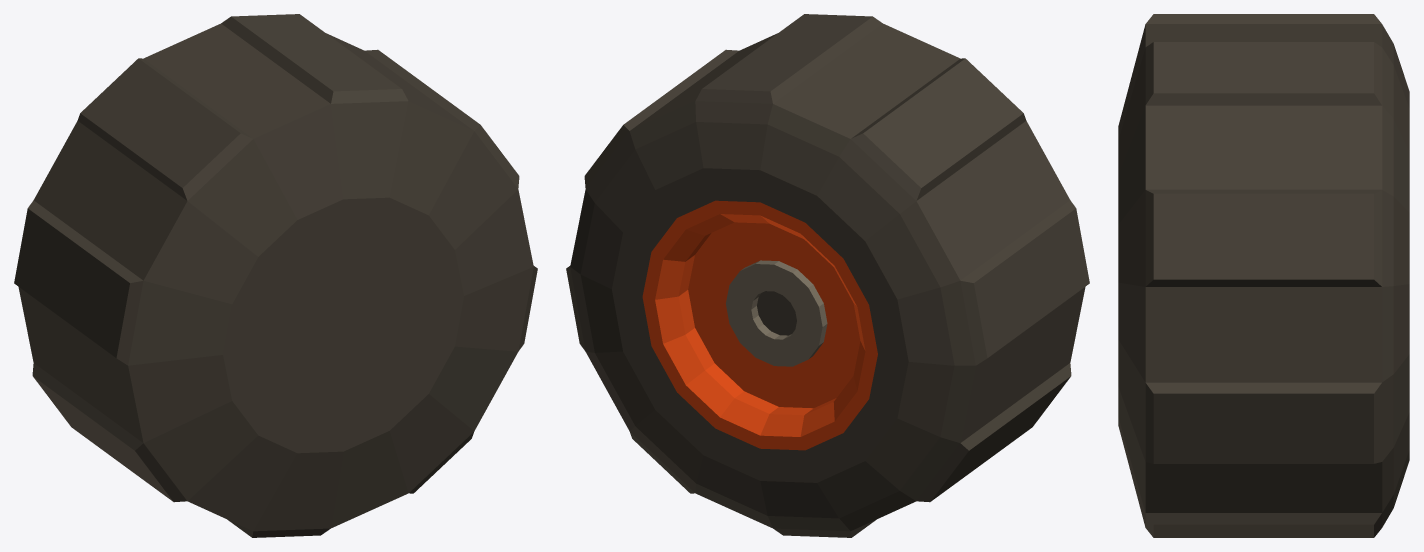
The model's file is wheel.glb.
3 views of the same model, side by side, from view 1: azimuth 30°, elevation 25°; view 2: azimuth 150°, elevation 25°; view 3: azimuth 270°, elevation 25° (orthographic). The views are drawn at different scales.
Parts seen in each view (by area): view 1: wheel; view 2: wheel; view 3: wheel.
Part boxes in pixels (left/top/right/bottom): wheel: left=14, top=14, right=537, bottom=537; wheel: left=566, top=14, right=1089, bottom=537; wheel: left=1118, top=14, right=1409, bottom=537.
Bounding box in the file's own units: 0.8203 × 0.8203 × 0.4561.
